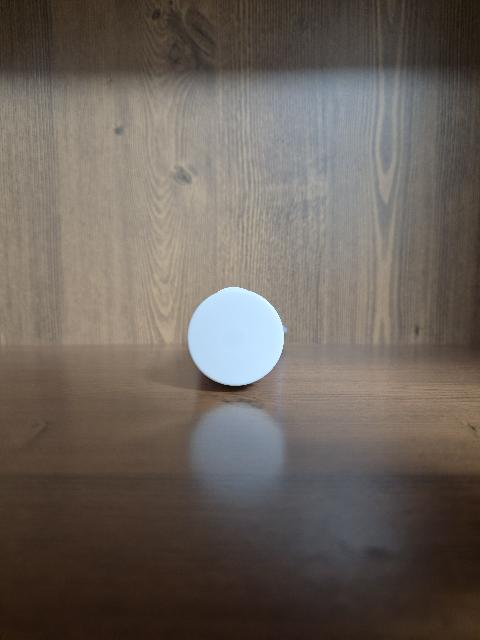handcream: (187, 286, 288, 386)
